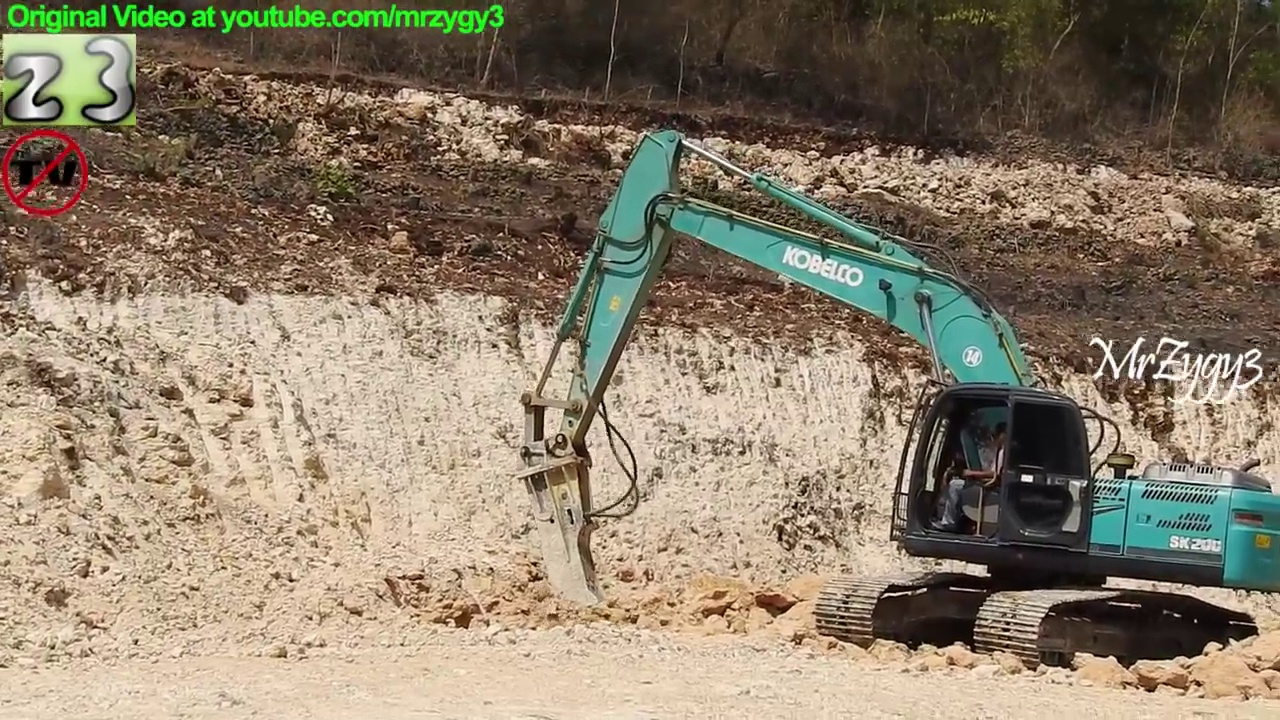excavator breaker: (507, 123, 1280, 687)
